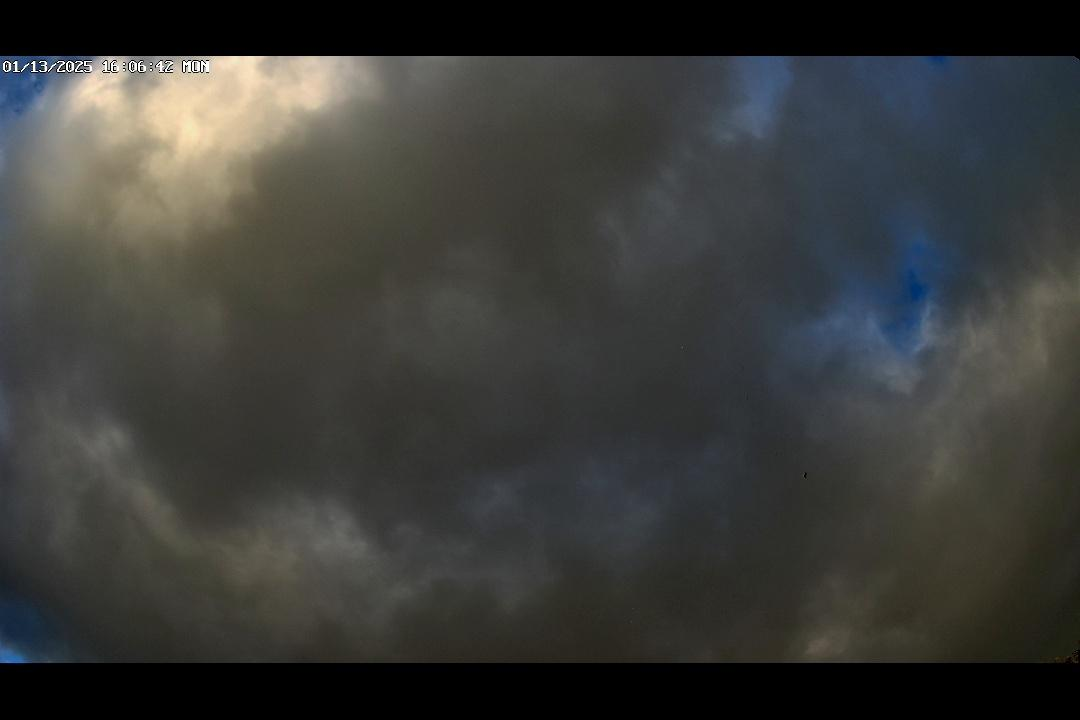WildLife: (794, 465, 816, 482), (677, 343, 688, 352), (744, 394, 752, 403)
